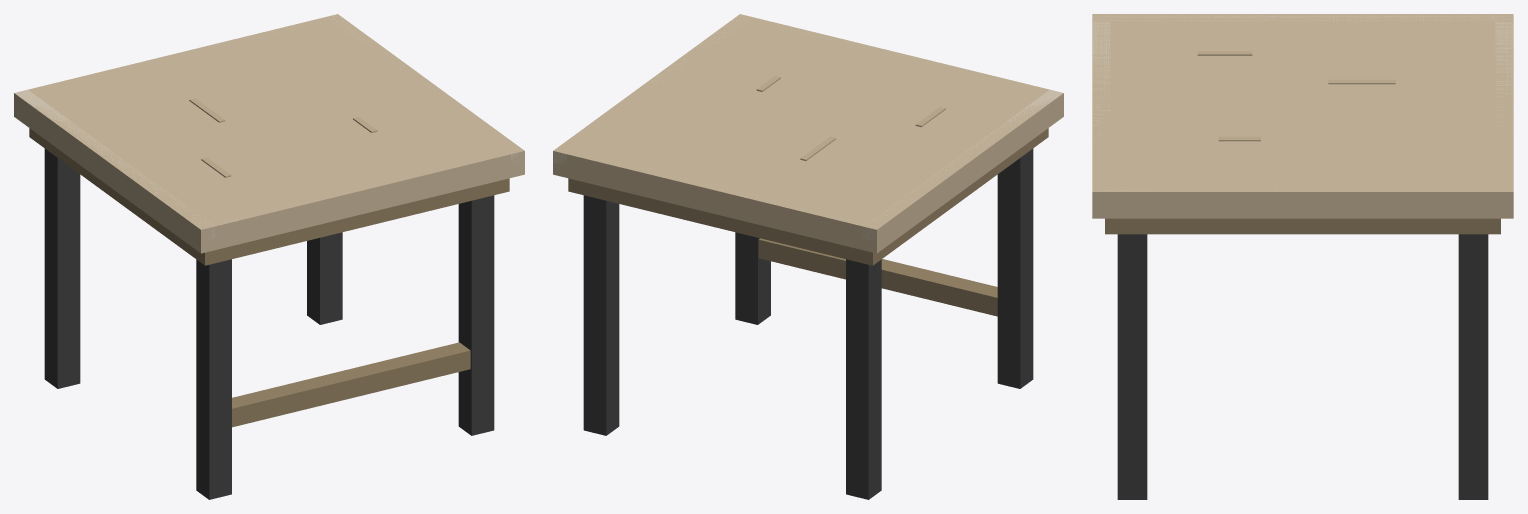
File: CMU3DSteelTable.glb
The picture shows the model from 3 angles, left to right: view 1: azimuth 30°, elevation 25°; view 2: azimuth 150°, elevation 25°; view 3: azimuth 270°, elevation 25°; orthographic projection. The views are drawn at different scales.
Visible parts, largest first — view 1: tabletop inset, corner leg (×4), front stretcher, underframe, side perimeter edge; view 2: tabletop inset, corner leg (×4), underframe, front stretcher, side perimeter edge; view 3: tabletop inset, corner leg (×2), underframe, end perimeter edge (×2), side perimeter edge.
Boxes of the visible parts, x1,y1,x2,y2 form: tabletop inset: [14, 14, 524, 253]; corner leg (×4): [44, 148, 494, 499]; front stretcher: [232, 342, 470, 427]; underframe: [29, 128, 509, 265]; side perimeter edge: [15, 89, 214, 240]; tabletop inset: [553, 14, 1063, 253]; corner leg (×4): [583, 148, 1033, 499]; underframe: [568, 128, 1048, 265]; front stretcher: [758, 238, 997, 316]; side perimeter edge: [863, 89, 1062, 241]; tabletop inset: [1092, 14, 1513, 218]; corner leg (×2): [1117, 234, 1488, 499]; underframe: [1105, 218, 1500, 234]; end perimeter edge (×2): [1093, 22, 1512, 179]; side perimeter edge: [1092, 14, 1513, 21].
Size of the model in its own units: 1 by 0.84 by 1.
